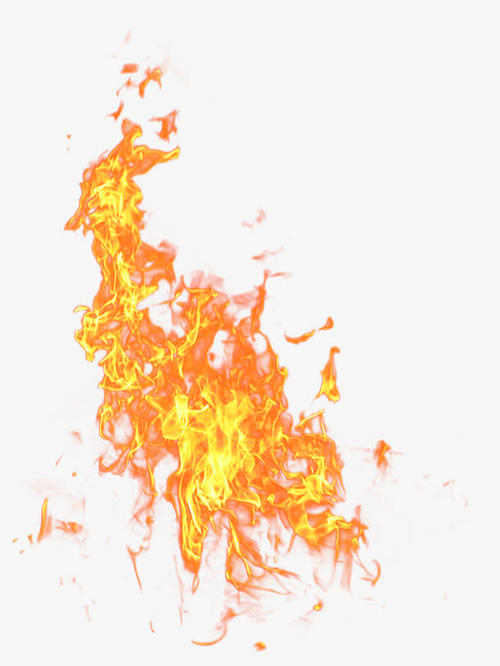fire: (68, 143, 321, 563)
